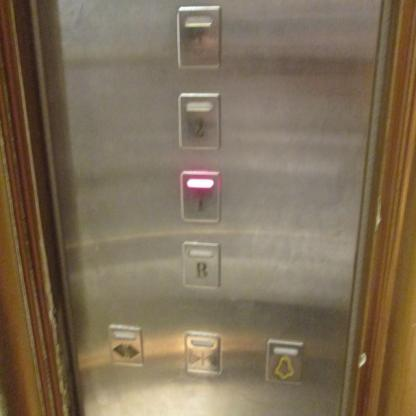1: (178, 167, 223, 226)
2: (176, 88, 223, 152)
B: (182, 238, 222, 290)
alarm: (264, 336, 304, 387)
blur: (175, 3, 223, 72)
close: (184, 330, 221, 379)
open: (107, 322, 146, 370)
